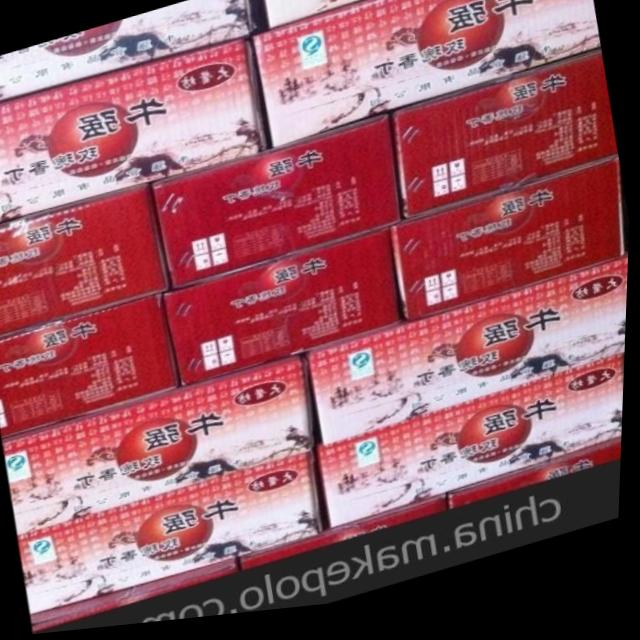box: (310, 266, 631, 453), (6, 362, 316, 536), (252, 0, 602, 153), (321, 370, 628, 535), (0, 40, 267, 225), (22, 458, 327, 615), (152, 120, 406, 293), (391, 60, 620, 230), (165, 233, 406, 391), (397, 169, 626, 331), (0, 295, 180, 439), (0, 189, 173, 338), (244, 502, 456, 577), (36, 562, 241, 633), (453, 449, 625, 520), (260, 0, 390, 36)
